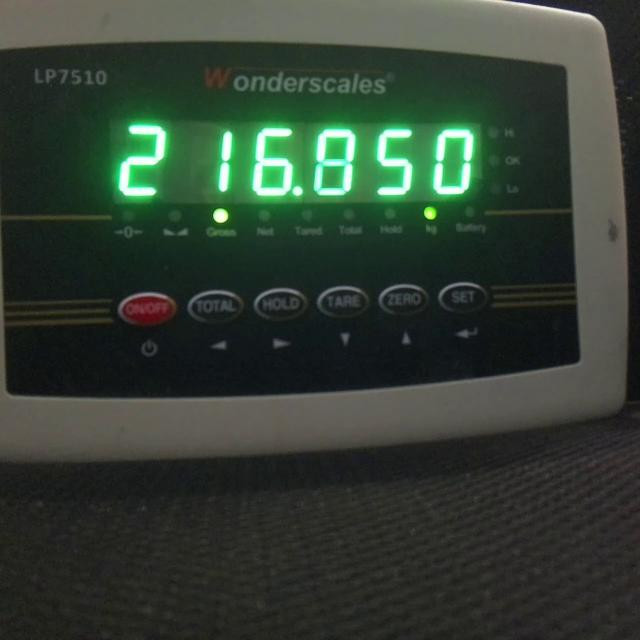.: (290, 182, 306, 198)
0: (433, 128, 473, 195)
1: (217, 131, 233, 192)
2: (118, 123, 166, 196)
5: (374, 127, 414, 195)
6: (252, 124, 296, 199)
8: (313, 127, 356, 195)
